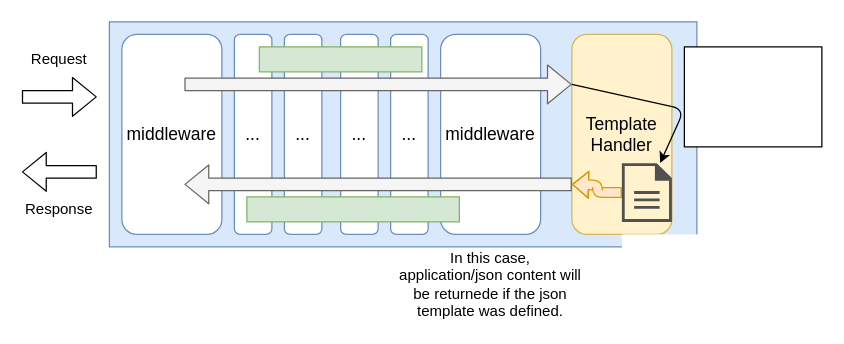
The diagram is 844 pixels wide and 344 high, and some of its shapes have lost their labels. The shapes that lost their labels are listed below. From the top down, each one's centre as x and y in pixels, then its label:
the point at 340,59: Accept: application/json
the point at 752,96: - json body - query body - url query can be embedded to the template.
the point at 352,209: Content-Type: application/json
the point at 661,252: Pre-defined template
